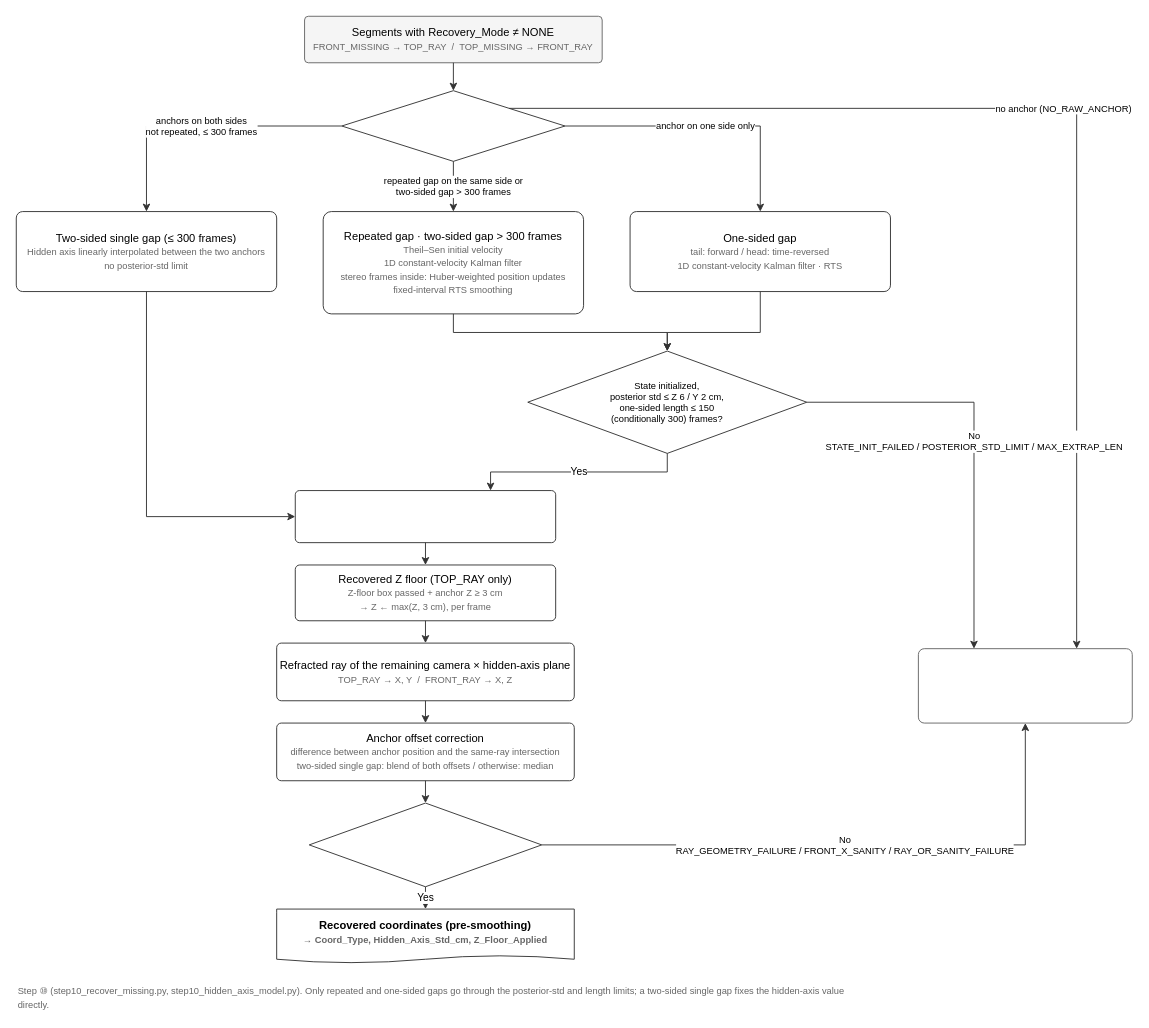
This 1149x1028 diagram has some shape labels left out. Here are the shapes that lost their labels. From the top down, the centre of each, then its label:
At (x=453, y=125): "Gap structure".
At (x=425, y=516): "Hidden-axis value fixed TOP_RAY → Z / FRONT_RAY → Y".
At (x=1024, y=685): "LOST no coordinates are generated reason recorded in Hidden_Stop_Reason".
At (x=425, y=844): "Ray intersection valid? FRONT_RAY: X consistency passed?".
